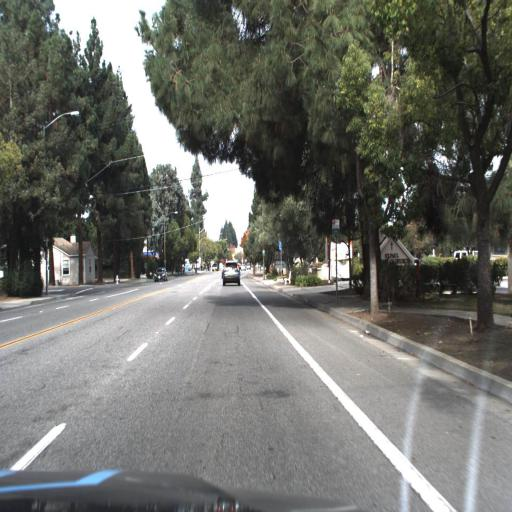car: (219, 257, 241, 287), (150, 263, 170, 287)
